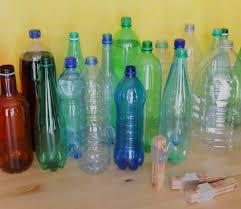Plastic: (114, 65, 147, 174)
